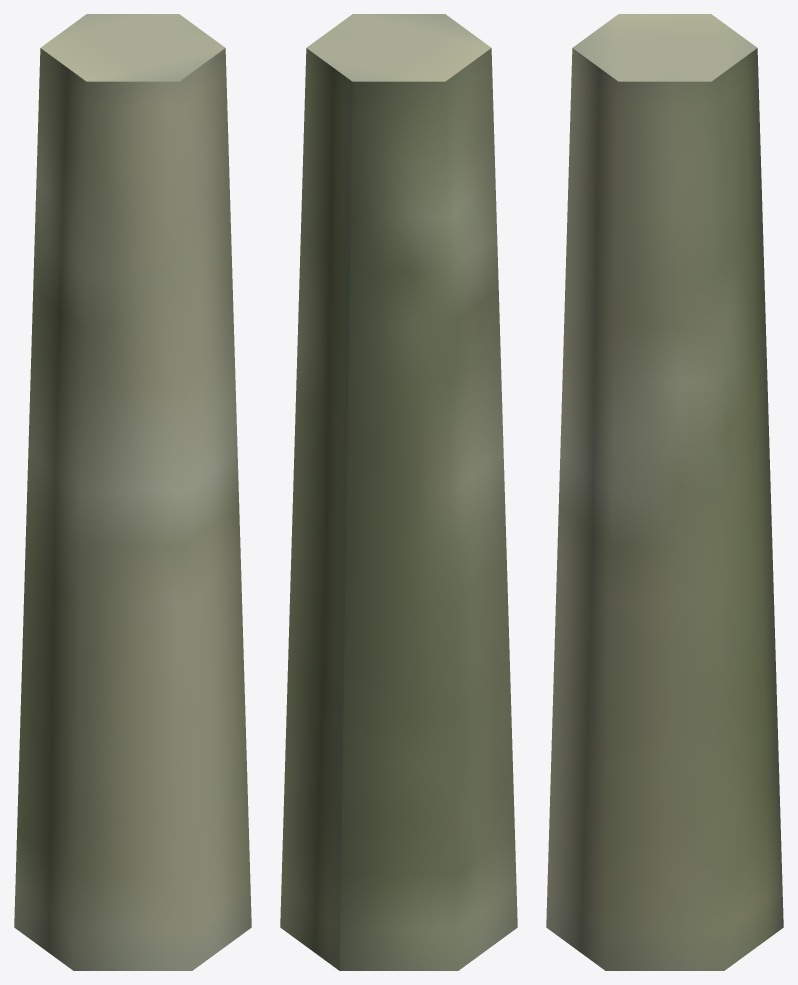
The model's file is BOSS_D_01_c.FBX.
3 renders of one model, left to right at view 1: azimuth 30°, elevation 25°; view 2: azimuth 150°, elevation 25°; view 3: azimuth 270°, elevation 25°, orthographic.
Visible parts, largest first — view 1: BOSS_D_01_c; view 2: BOSS_D_01_c; view 3: BOSS_D_01_c.
Part boxes in pixels (x1,y1,x2,y2): BOSS_D_01_c: [14, 14, 251, 970]; BOSS_D_01_c: [280, 14, 517, 970]; BOSS_D_01_c: [546, 14, 783, 970].
Size of the model in its own units: 12.51 by 59 by 14.44.
